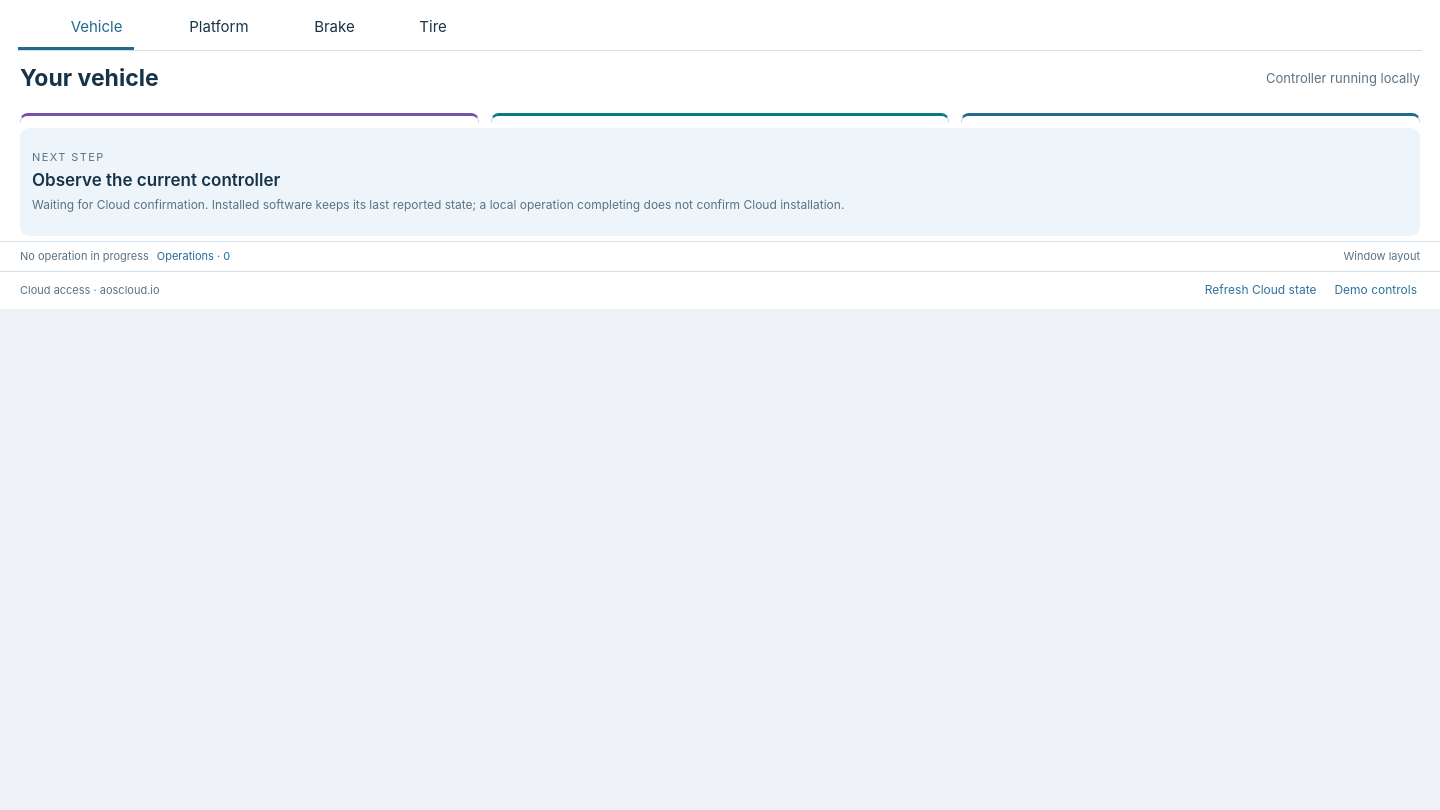
Test case: opening ordinary Cloud access has no automatic operation or certificate picker
Click the button "Demo controls".
click(1376, 290)  # box left=1331, top=279, right=1420, bottom=302
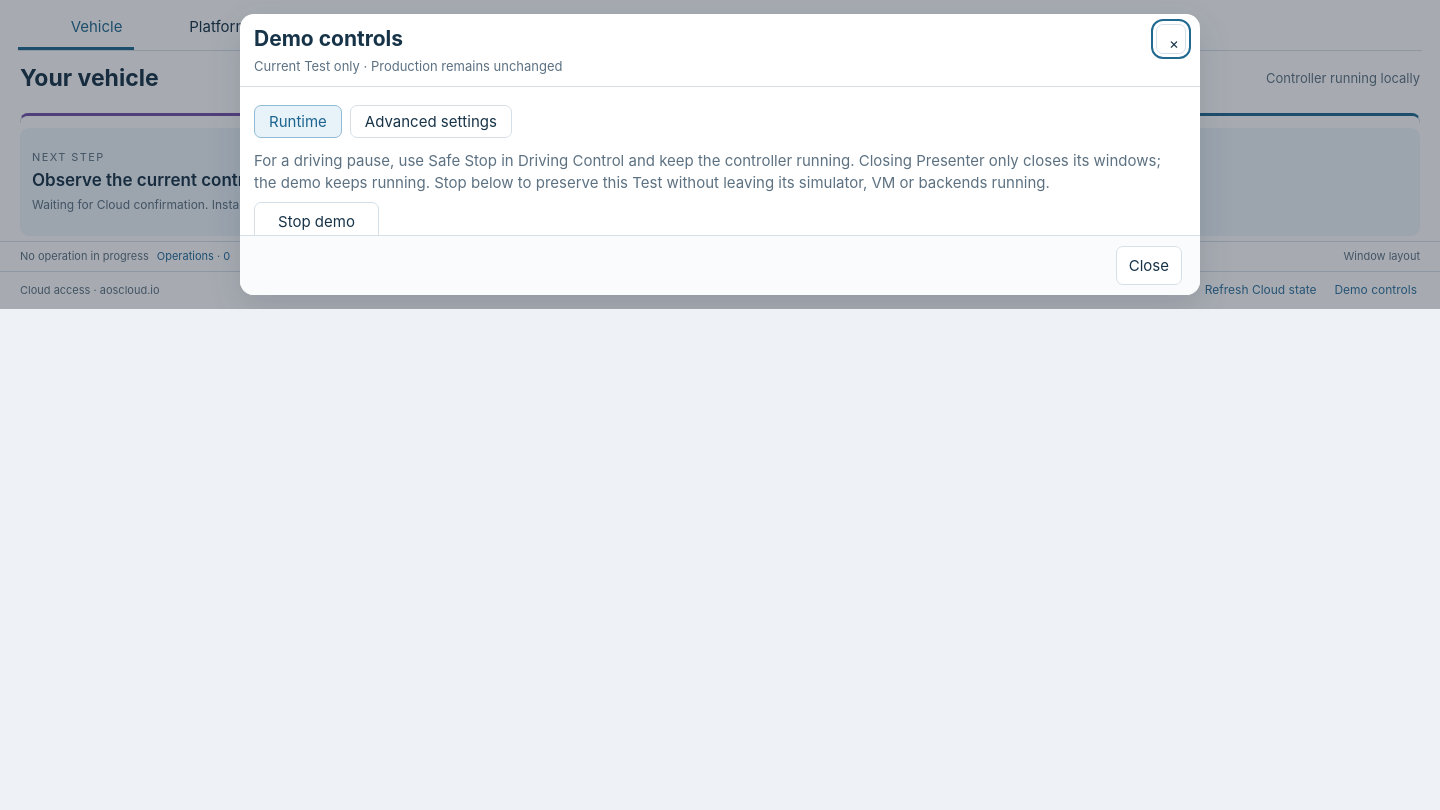
Click the button "Advanced settings".
click(431, 122)  # box left=350, top=105, right=512, bottom=138
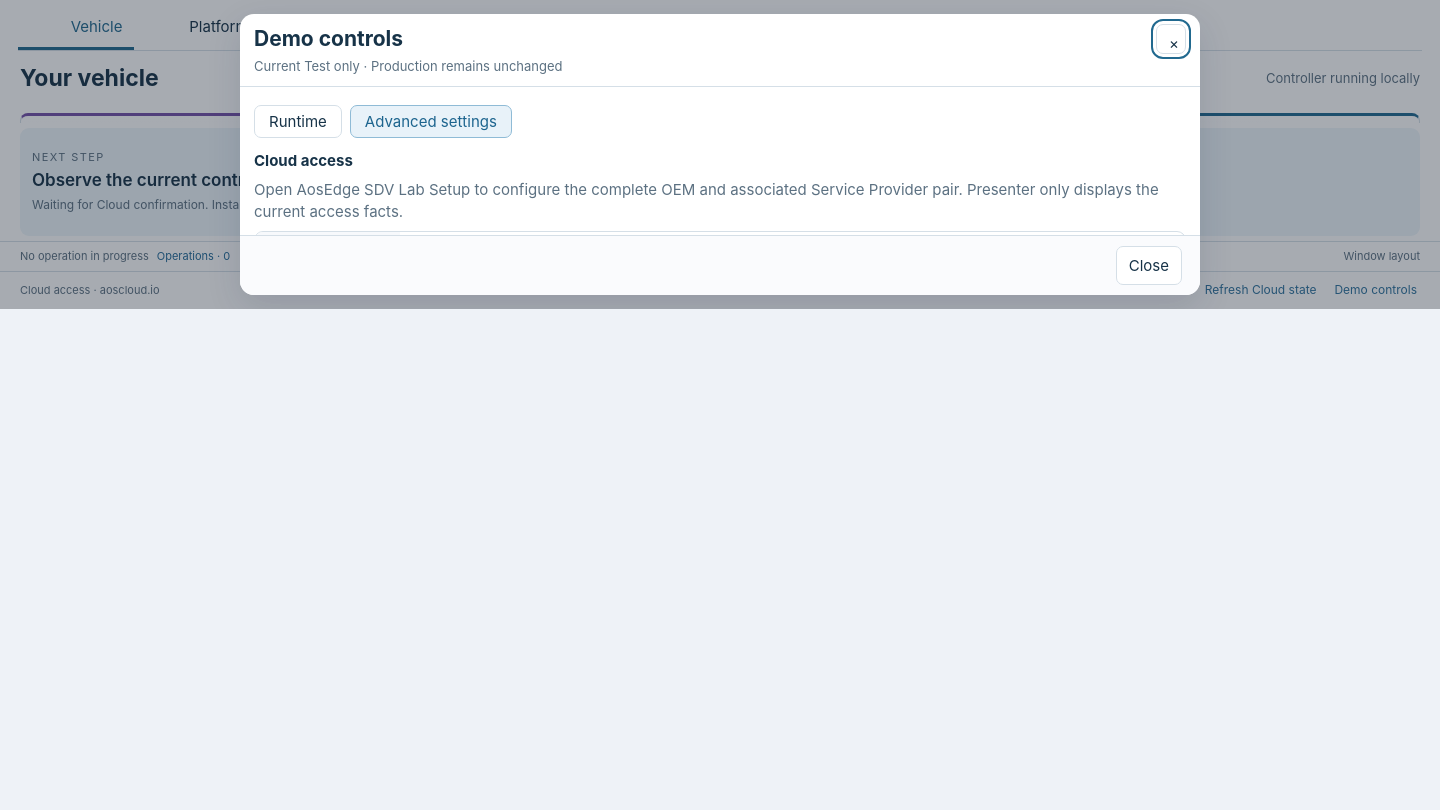
expect the dialog shows "Open AosEdge SDV Lab Setup": met, box left=254, top=180, right=1159, bottom=221
